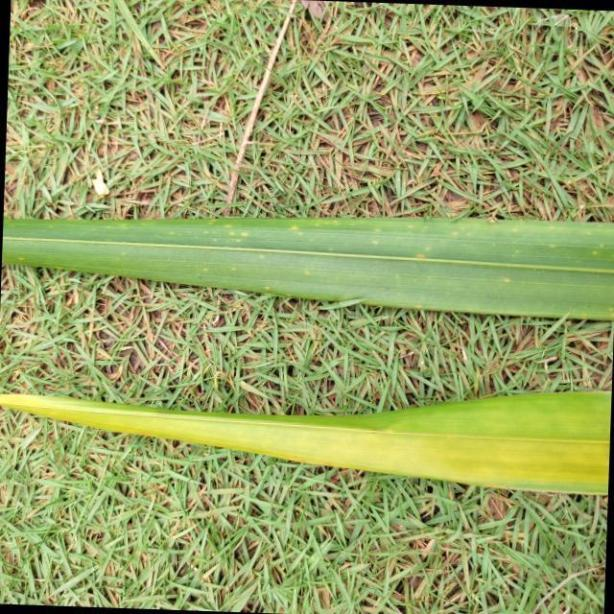nitrogen: (0, 382, 614, 496), (1, 204, 614, 316)
